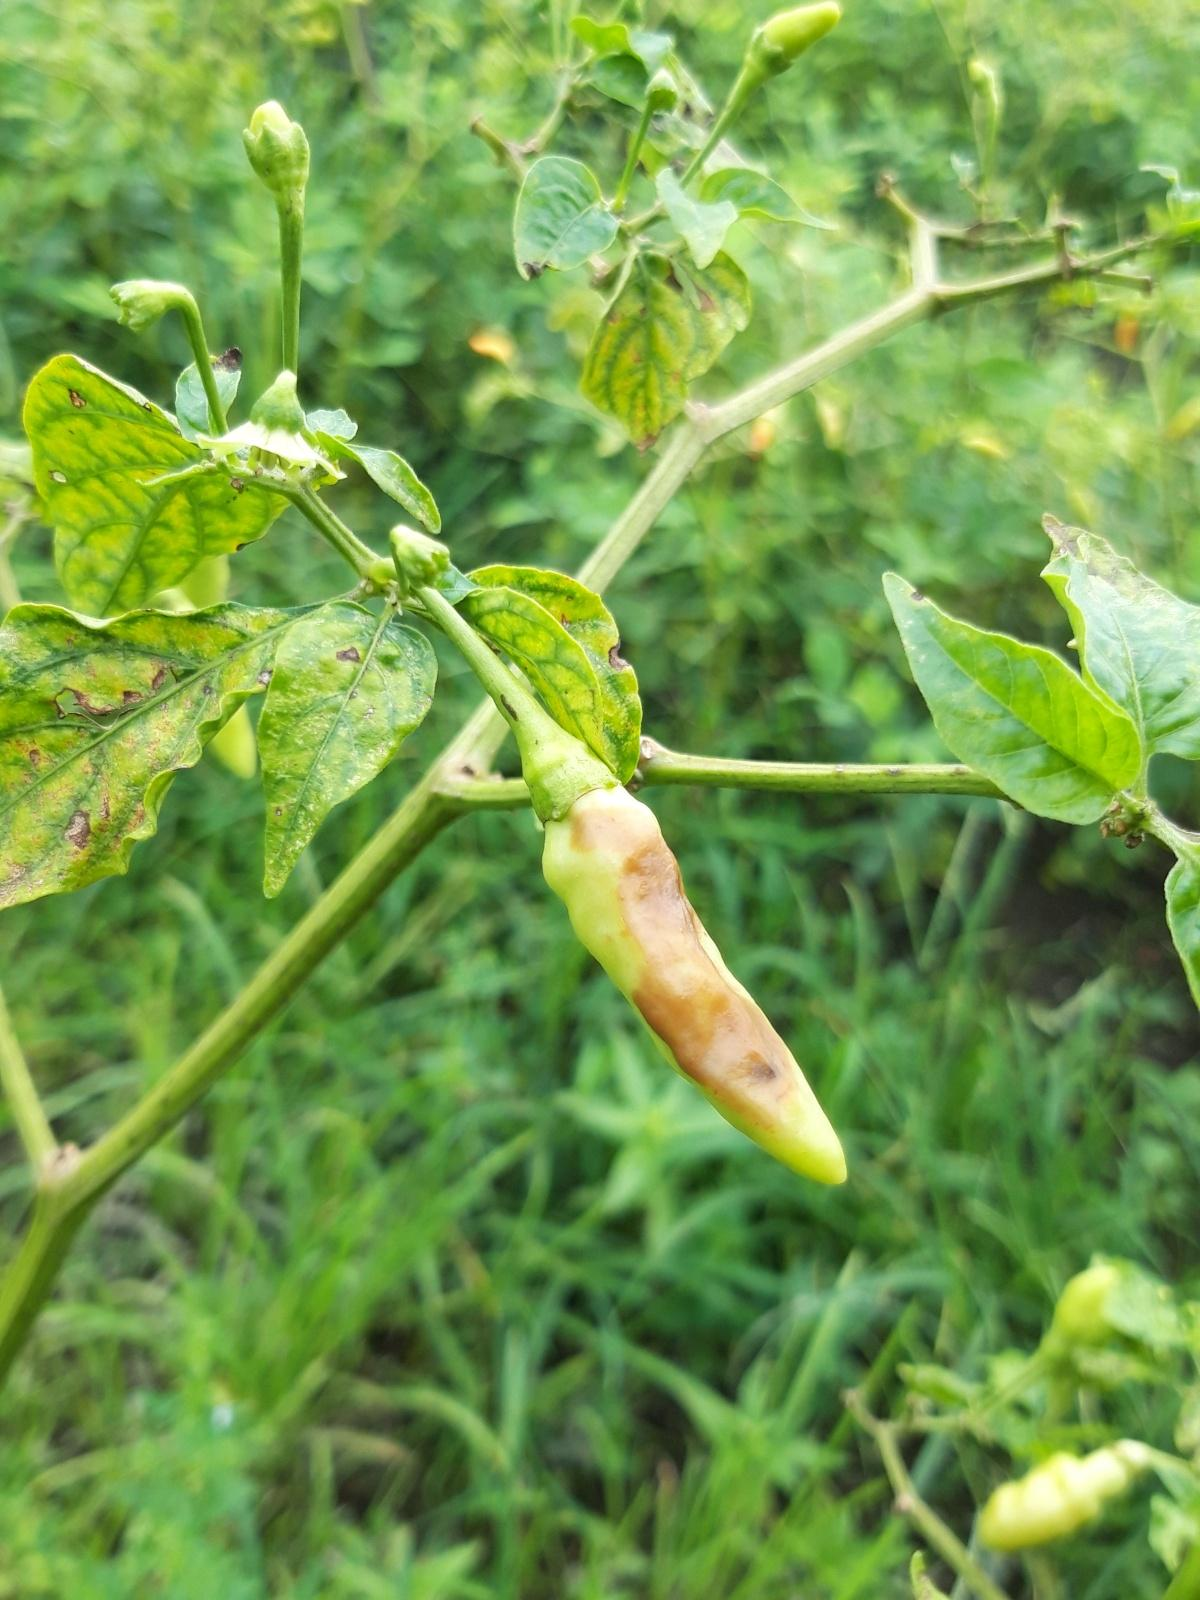lalat_buah: (522, 774, 847, 1186)
